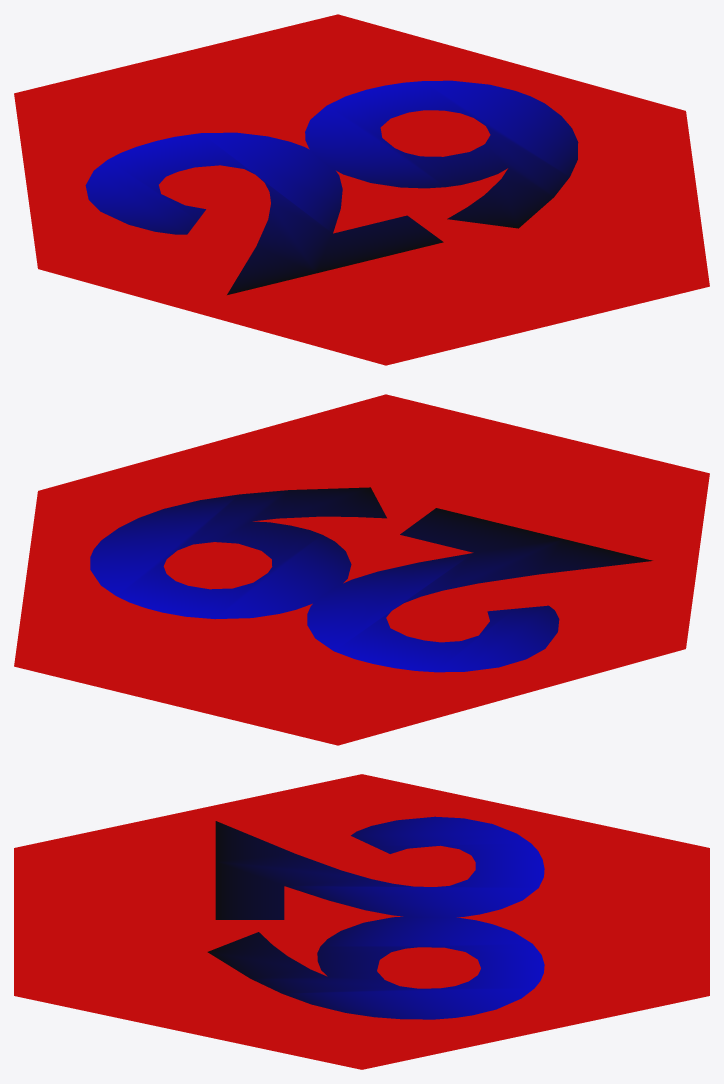
File: SM_Number_29.fbx
The picture shows the model from 3 angles, top to bottom: view 1: azimuth 30°, elevation 25°; view 2: azimuth 150°, elevation 25°; view 3: azimuth 270°, elevation 25°; orthographic projection. The views are drawn at different scales.
Parts seen in each view (by area): view 1: FBX_OUT; view 2: FBX_OUT; view 3: FBX_OUT.
Boxes of the visible parts, left/top/right/bottom form: FBX_OUT: left=14, top=14, right=709, bottom=365; FBX_OUT: left=14, top=394, right=709, bottom=745; FBX_OUT: left=14, top=774, right=709, bottom=1069.
Size of the model in its own units: 50 by 0.2917 by 49.71.
